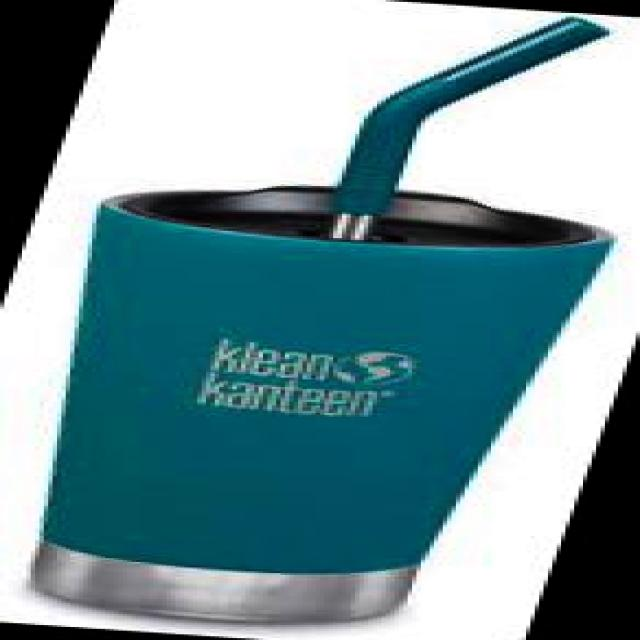bottle: (0, 97, 640, 638)
